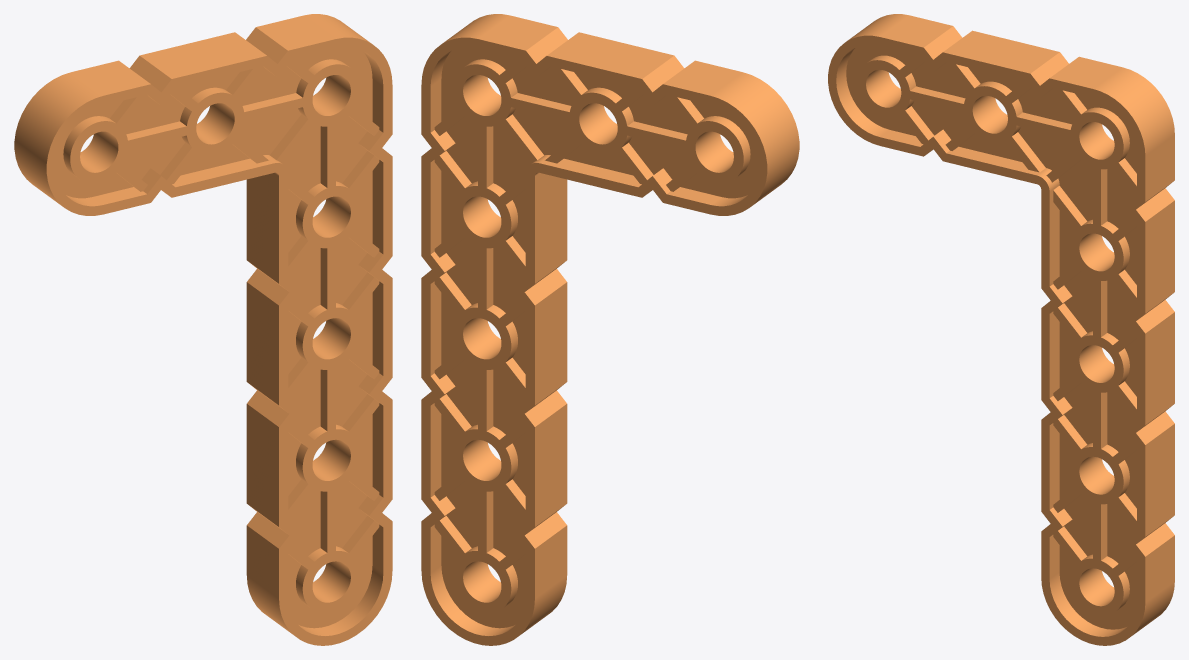
The picture shows the model from 3 angles, left to right: view 1: azimuth 30°, elevation 25°; view 2: azimuth 150°, elevation 25°; view 3: azimuth 330°, elevation 25°; orthographic projection. The views are drawn at different scales.
Parts seen in each view (by area): view 1: main_ff671f; view 2: main_ff671f; view 3: main_ff671f.
Boxes of the visible parts, left/top/right/bottom form: main_ff671f: left=14, top=14, right=392, bottom=645; main_ff671f: left=421, top=14, right=799, bottom=645; main_ff671f: left=828, top=14, right=1174, bottom=645.
Size of the model in its own units: 37.78 by 63.18 by 6.1.
